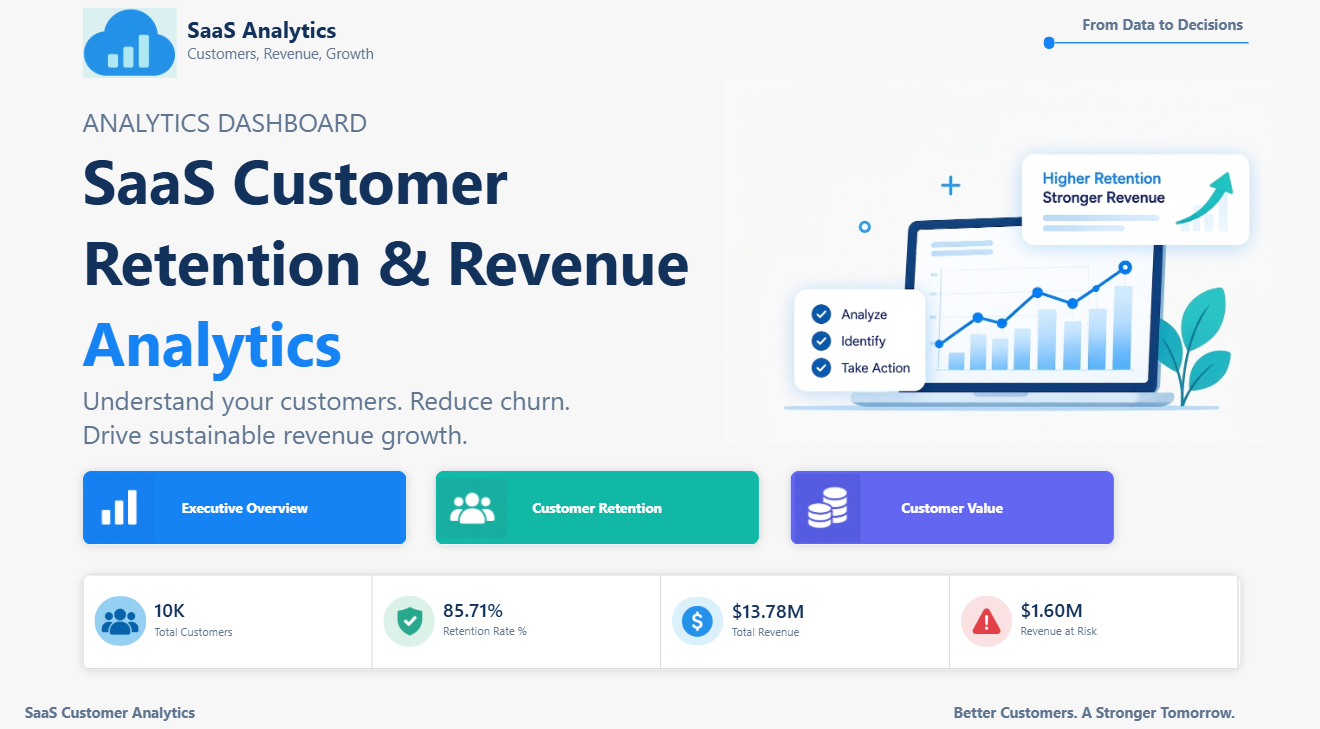

The dashboard page shown, as its layout file describes it:
{"tool":"powerbi","page":{"name":"Home Page","canvas":[1920,1080],"ordinal":0},"visuals":[{"type":"textbox","box":[124.9,159.3,968.2,510.3],"z":0},{"type":"textbox","box":[276.9,29,333,94.1],"z":1000},{"type":"cardVisual","fields":{"Data":["measures_table.Total Customers","measures_table.Retention Rate %","measures_table.Total Revenue","measures_table.Revenue at Risk"]},"box":[124.9,839.7,1677.6,139.3],"z":2000},{"type":"textbox","box":[41.6,1024.3,311.3,39.8],"z":3000},{"type":"textbox","box":[1386.2,1024.3,416.2,39.8],"z":4000},{"type":"textbox","box":[1572.6,29,240.7,47.1],"z":5000},{"type":"shape","box":[1532.8,52.5,280.5,36.2],"z":6000},{"type":"shape","box":[1516.5,61.5,16.3,18.1],"z":7000},{"type":"actionButton","box":[124.9,689.5,470.5,108.6],"z":8000},{"type":"actionButton","box":[635.2,689.5,470.5,108.6],"z":9000},{"type":"actionButton","box":[1149.1,689.5,470.5,108.6],"z":10000},{"type":"image","box":[1033.3,123.1,834.3,528.4],"z":11000},{"type":"image","box":[124.9,19.9,137.5,101.3],"z":11001}]}

Visuals, with their boxes in screenshot pixels (x1, y1, x2, y2), scaled from the page's 1920x1080 canvas onto the 1320x729 screenshot:
textbox: bbox(86, 108, 752, 452)
textbox: bbox(190, 20, 419, 83)
cardVisual - measures_table.Total Customers x measures_table.Retention Rate %: bbox(86, 567, 1239, 661)
textbox: bbox(29, 691, 243, 718)
textbox: bbox(953, 691, 1239, 718)
textbox: bbox(1081, 20, 1247, 51)
shape: bbox(1054, 35, 1247, 60)
shape: bbox(1043, 42, 1054, 54)
actionButton: bbox(86, 465, 409, 539)
actionButton: bbox(437, 465, 760, 539)
actionButton: bbox(790, 465, 1113, 539)
image: bbox(710, 83, 1284, 440)
image: bbox(86, 13, 180, 82)
